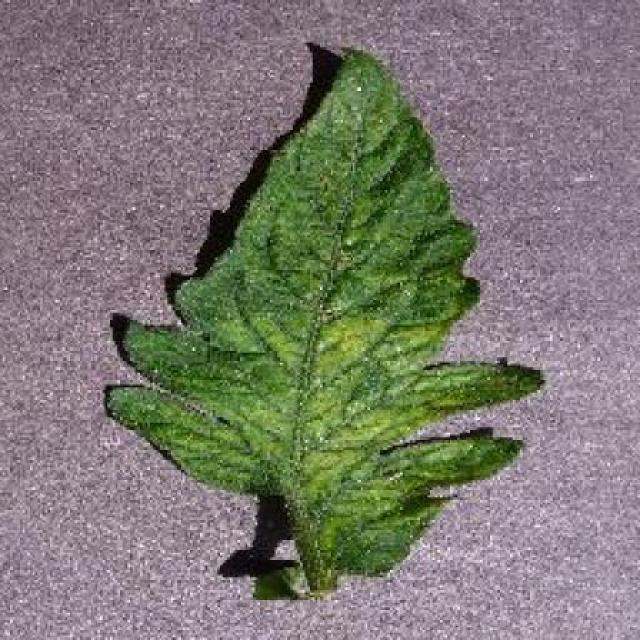Mosaic Virus: (102, 44, 547, 579)
